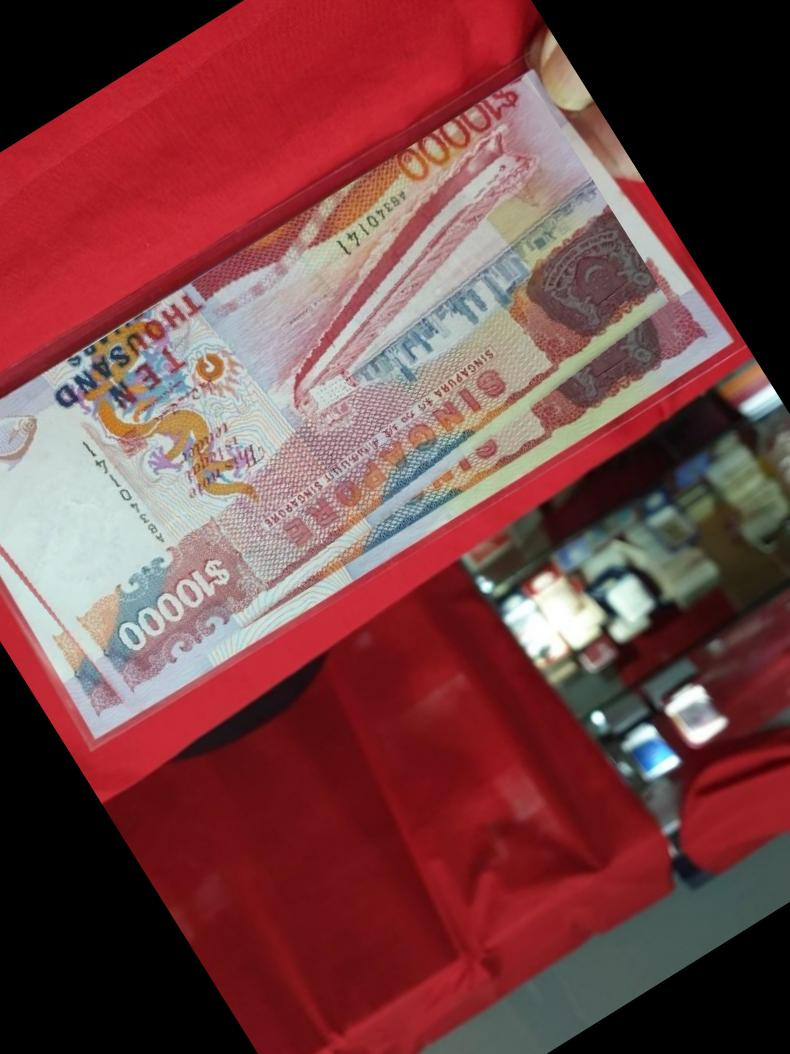10000SingaporeDollar: (0, 74, 704, 738)
